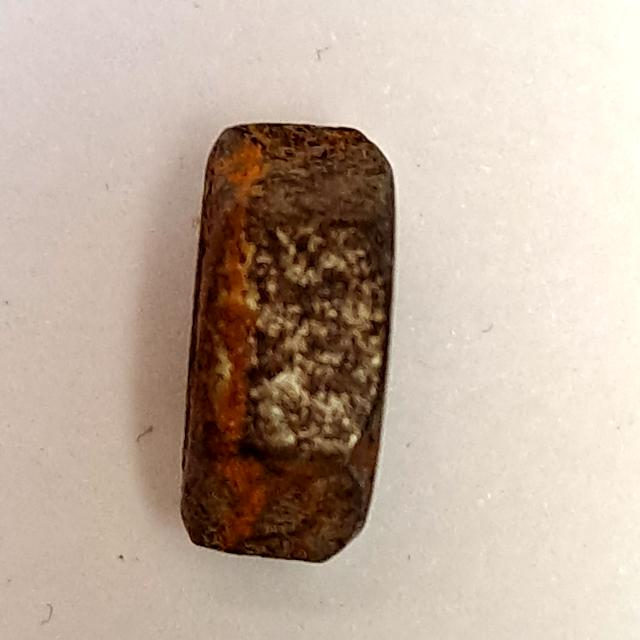Side_Rust: (137, 111, 451, 586)
